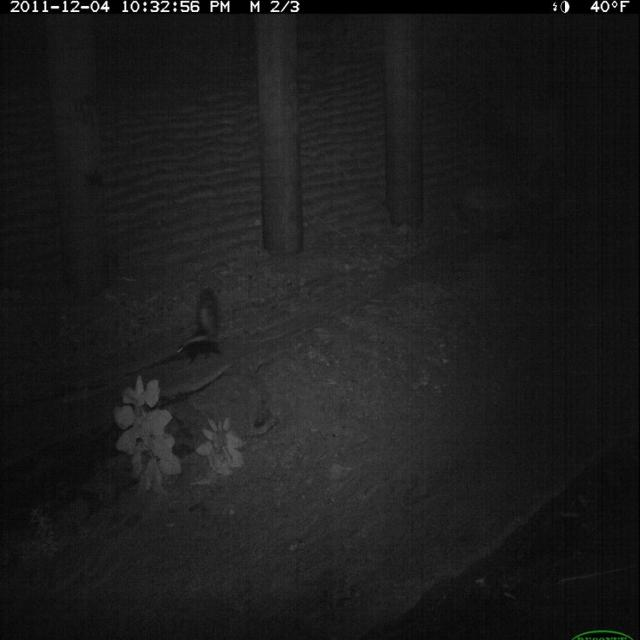skunk: (172, 281, 228, 371)
